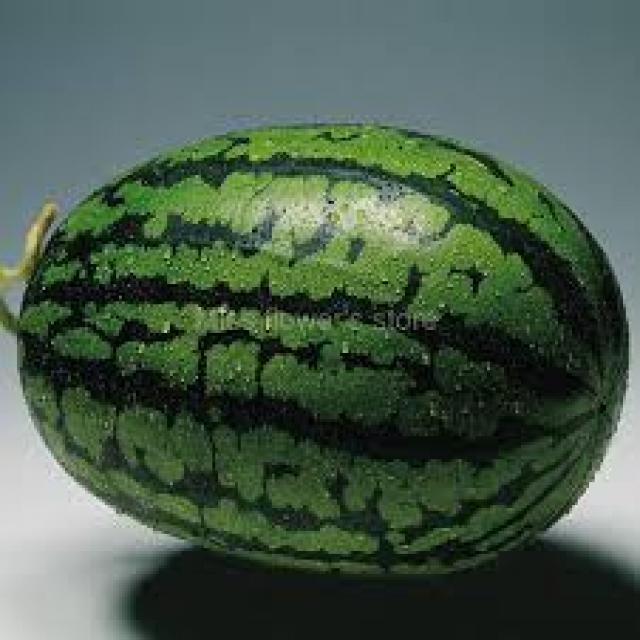organic waste: (8, 120, 626, 580)
